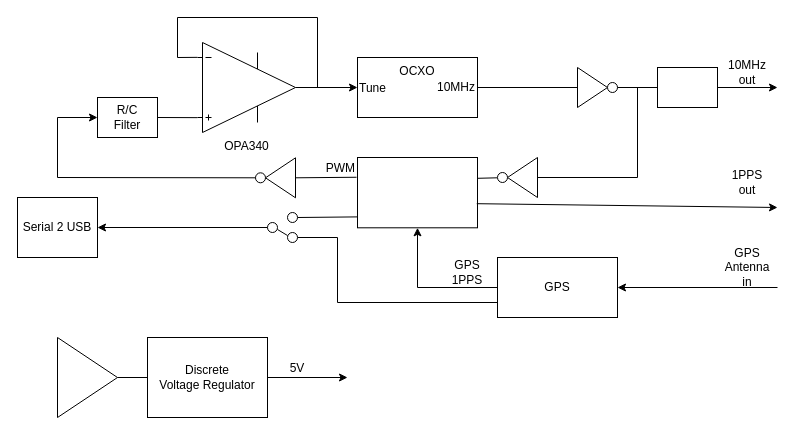
This 803x435 diagram has some shape labels left out. The shapes that lost their labels are listed below. From the top down, each one's centre as x and y in pixels, then its label:
At point 687,87: "L/C Filter".
At point 417,192: "Microcontroller".
At point 87,377: "VREF".
